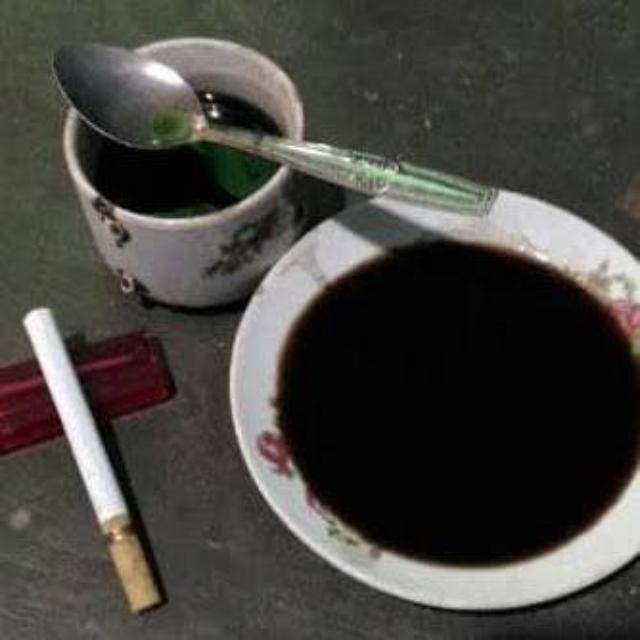rokok: (16, 305, 168, 617)
